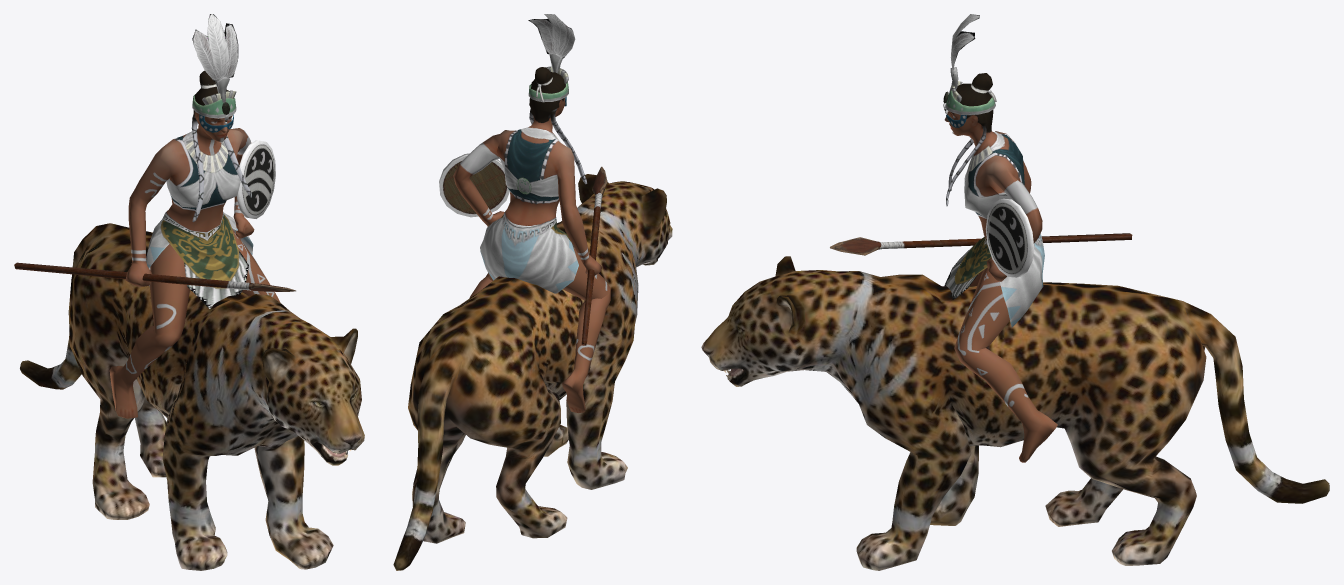
The model's file is 231-jaguarrider.glb.
3 renders of one model, left to right at view 1: azimuth 30°, elevation 25°; view 2: azimuth 150°, elevation 25°; view 3: azimuth 270°, elevation 25°, orthographic. The views are drawn at different scales.
Size of the model in its own units: 1.28 by 3.02 by 3.27.
Materials: 5 (5 with a texture image).
